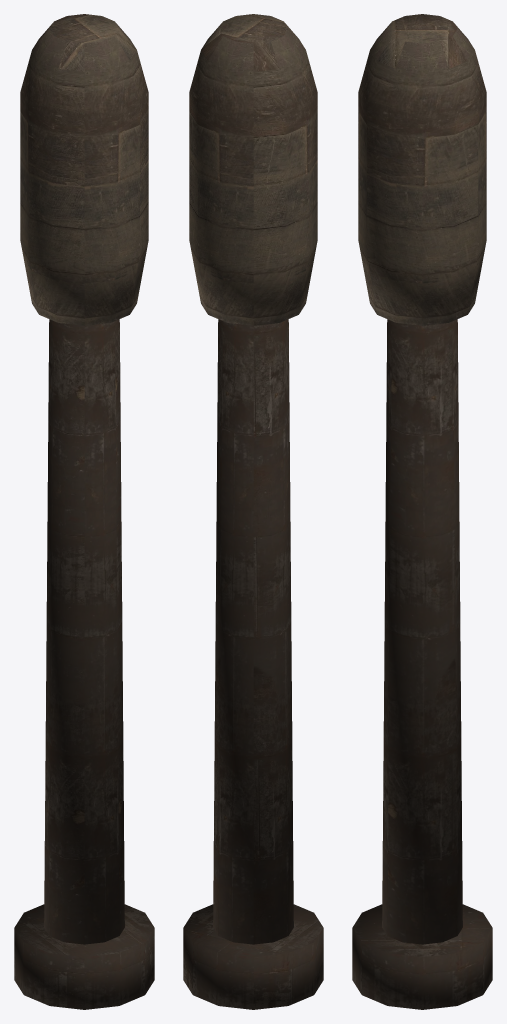
File: lever_handle.glb
3 renders of one model, left to right at view 1: azimuth 30°, elevation 25°; view 2: azimuth 150°, elevation 25°; view 3: azimuth 270°, elevation 25°, orthographic.
Visible parts, largest first — view 1: lever_handle; view 2: lever_handle; view 3: lever_handle.
Part boxes in pixels (x1,y1,x2,y2): lever_handle: [14, 14, 154, 1009]; lever_handle: [183, 14, 323, 1009]; lever_handle: [352, 14, 492, 1009].
Size of the model in its own units: 0.12 by 0.9 by 0.12.
2 materials, 2 textured.
